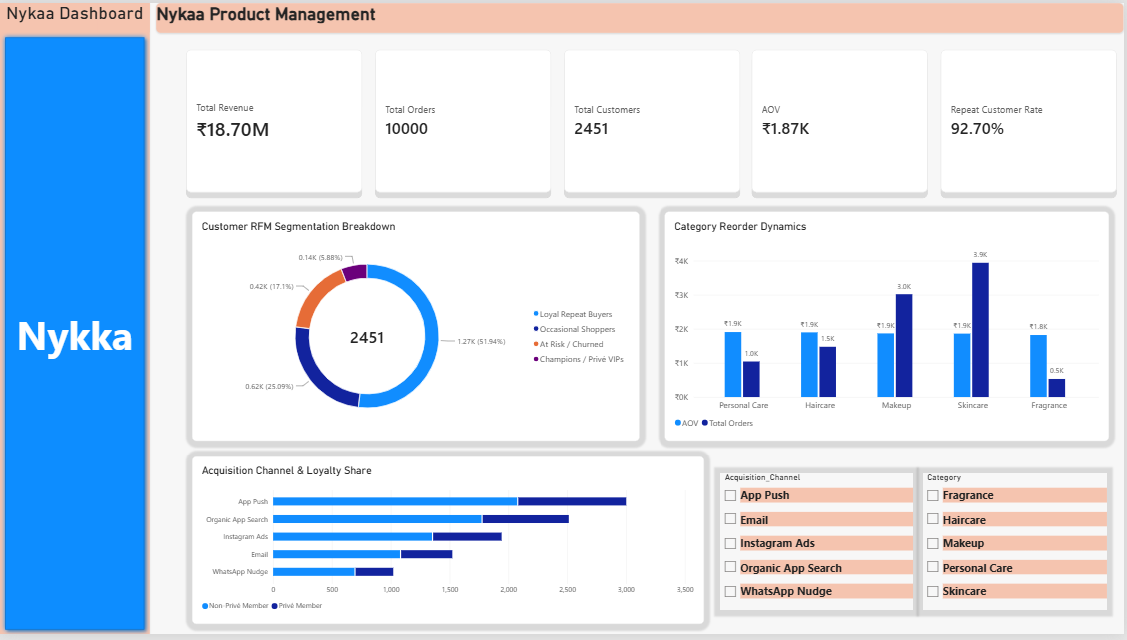

What the dashboard file says about the page in this screenshot:
{"tool":"powerbi","page":{"name":"Page 1","canvas":[1920,1080],"ordinal":0},"visuals":[{"type":"textbox","box":[11.3,0,277.8,1014.8],"z":0},{"type":"textbox","box":[11,1025,278,415],"z":2},{"type":"shape","title":"Nykaa Dashboard","box":[0,0,255.7,1080],"z":3},{"type":"shape","title":"Nykaa Product Management","box":[265.7,0,1654.3,51.4],"z":4},{"type":"cardVisual","fields":{"Data":["Measure.Total Revenue"]},"box":[308.3,70,322.5,265],"z":5},{"type":"cardVisual","fields":{"Data":["Measure.Total Orders"]},"box":[631.7,70,322.5,265],"z":6},{"type":"cardVisual","fields":{"Data":["Measure.Total Customers"]},"box":[953.3,70,322.5,265],"z":7},{"type":"cardVisual","fields":{"Data":["Measure.AOV"]},"box":[1275,70,322.5,265],"z":8},{"type":"cardVisual","fields":{"Data":["Measure.Repeat Customer Rate"]},"box":[1597.5,70,322.5,265],"z":9},{"type":"donutChart","title":"Customer RFM Segmentation Breakdown","fields":{"Category":["User_RFM_Table.Customer_Segment"],"Y":["CountNonNull(User_RFM_Table.User_ID)"]},"box":[327.5,357.5,765,392.5],"z":10},{"type":"clusteredColumnChart","title":"Category Reorder Dynamics","fields":{"Category":["nykaa_retention_data.Category"],"Y":["Measure.AOV","Measure.Total Orders"]},"box":[1135,357.5,760,392.5],"z":11},{"type":"barChart","title":"Acquisition Channel & Loyalty Share","fields":{"Category":["nykaa_retention_data.Acquisition_Channel"],"Series":["nykaa_retention_data.Prive_Status"],"Y":["CountNonNull(nykaa_retention_data.Order_ID)"]},"box":[327.5,775,875,287.5],"z":12},{"type":"slicer","fields":{"Values":["nykaa_retention_data.Acquisition_Channel"]},"box":[1230,802.5,330,235],"z":13},{"type":"slicer","fields":{"Values":["nykaa_retention_data.Category"]},"box":[1577.5,802.5,315,235],"z":14}]}

Visuals, with their boxes in screenshot pixels (x1, y1, x2, y2), scaled from the page's 1920x1080 canvas onto the 1127x640 screenshot:
textbox: (x1=7, y1=0, x2=170, y2=601)
textbox: (x1=6, y1=607, x2=170, y2=639)
"Nykaa Dashboard" shape: (x1=0, y1=0, x2=150, y2=639)
"Nykaa Product Management" shape: (x1=156, y1=0, x2=1126, y2=30)
cardVisual - Measure.Total Revenue: (x1=181, y1=41, x2=370, y2=199)
cardVisual - Measure.Total Orders: (x1=371, y1=41, x2=560, y2=199)
cardVisual - Measure.Total Customers: (x1=560, y1=41, x2=749, y2=199)
cardVisual - Measure.AOV: (x1=748, y1=41, x2=938, y2=199)
cardVisual - Measure.Repeat Customer Rate: (x1=938, y1=41, x2=1126, y2=199)
"Customer RFM Segmentation Breakdown" donutChart: (x1=192, y1=212, x2=641, y2=444)
"Category Reorder Dynamics" clusteredColumnChart: (x1=666, y1=212, x2=1112, y2=444)
"Acquisition Channel & Loyalty Share" barChart: (x1=192, y1=459, x2=706, y2=630)
slicer - nykaa_retention_data.Acquisition_Channel: (x1=722, y1=476, x2=916, y2=615)
slicer - nykaa_retention_data.Category: (x1=926, y1=476, x2=1111, y2=615)
